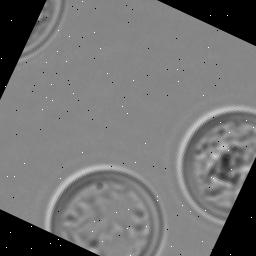picoshell: (44, 163, 166, 256), (174, 105, 256, 225), (17, 0, 65, 63)
